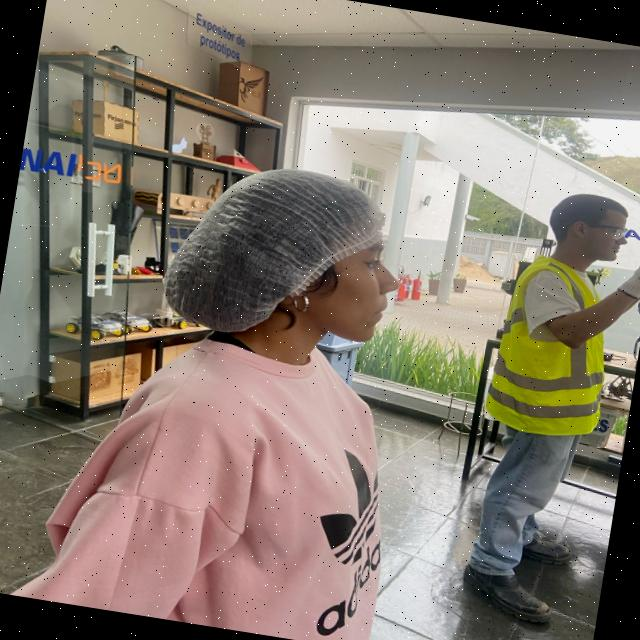BOTA: (467, 552, 559, 630), (480, 523, 581, 566)
COLETE: (476, 253, 611, 437)
LUVA: (613, 252, 640, 302)
OCULOS: (574, 220, 632, 244)
TOUCA: (141, 166, 380, 339)
